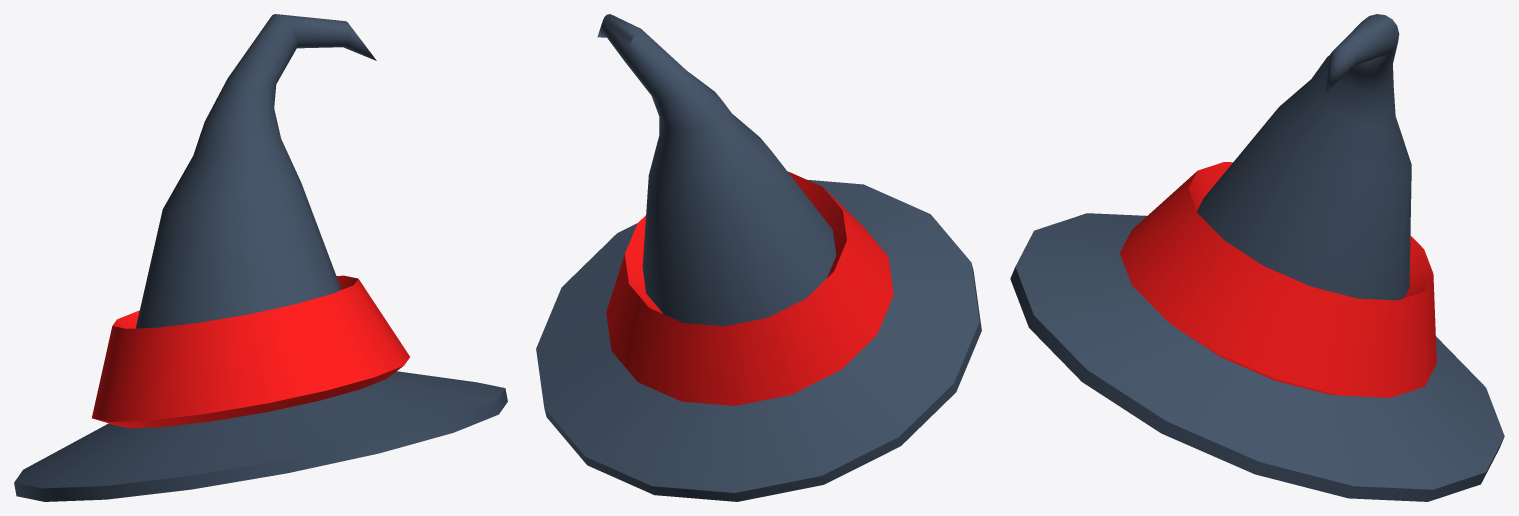
File: Hat_Wizzard.fbx
3 views of the same model, side by side, from view 1: azimuth 30°, elevation 25°; view 2: azimuth 150°, elevation 25°; view 3: azimuth 270°, elevation 25° (orthographic). The views are drawn at different scales.
Visible parts, largest first — view 1: Hat_Magic.001; view 2: Hat_Magic.001; view 3: Hat_Magic.001.
Part boxes in pixels (x1,y1,x2,y2): Hat_Magic.001: (14, 14, 507, 501); Hat_Magic.001: (536, 14, 981, 501); Hat_Magic.001: (1010, 14, 1504, 501).
Bounding box in the file's own units: 47.4 × 47.23 × 44.73.
